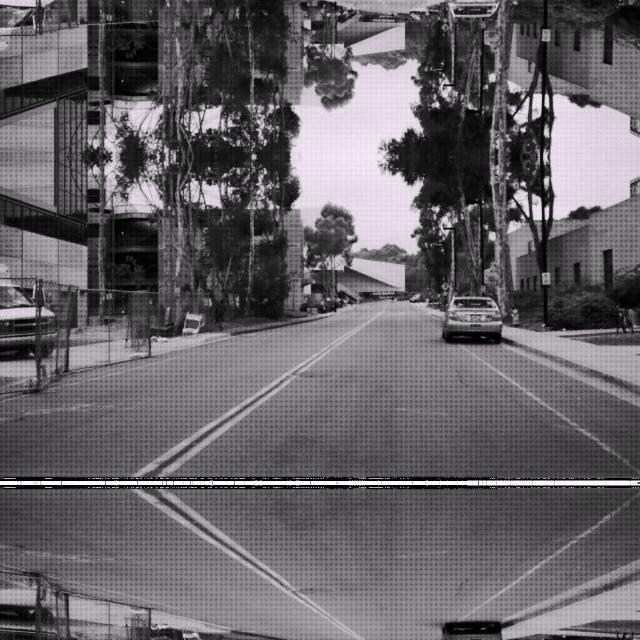pedestrianCrossing: (440, 280, 450, 290), (440, 22, 450, 32)
